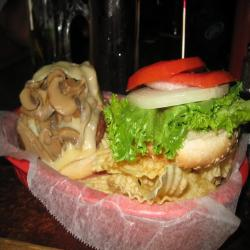burger: (11, 50, 249, 202)
